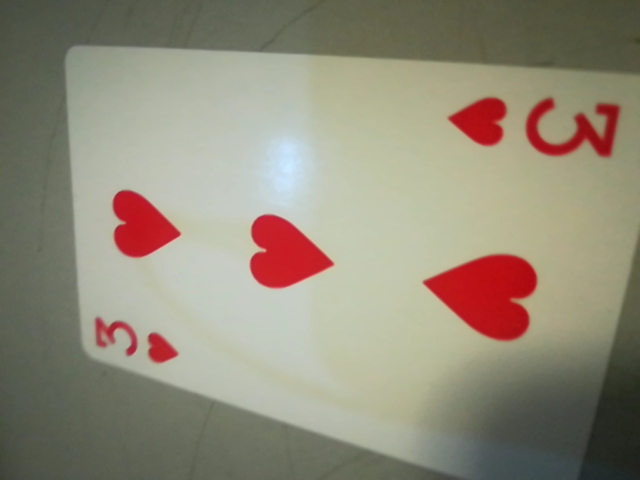hx 3: (445, 84, 628, 167)
